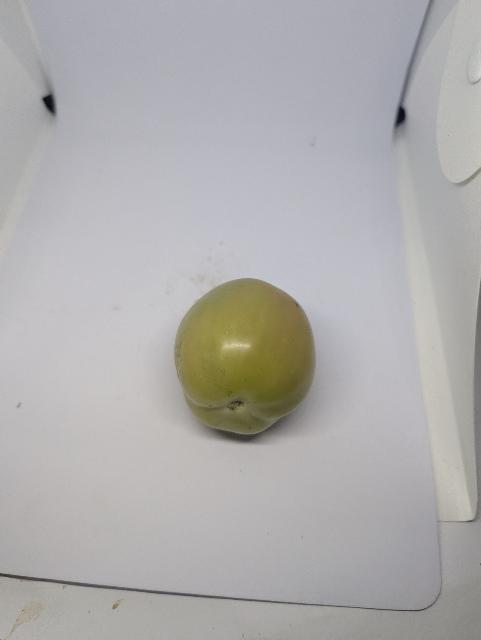breaker: (168, 275, 326, 439)
